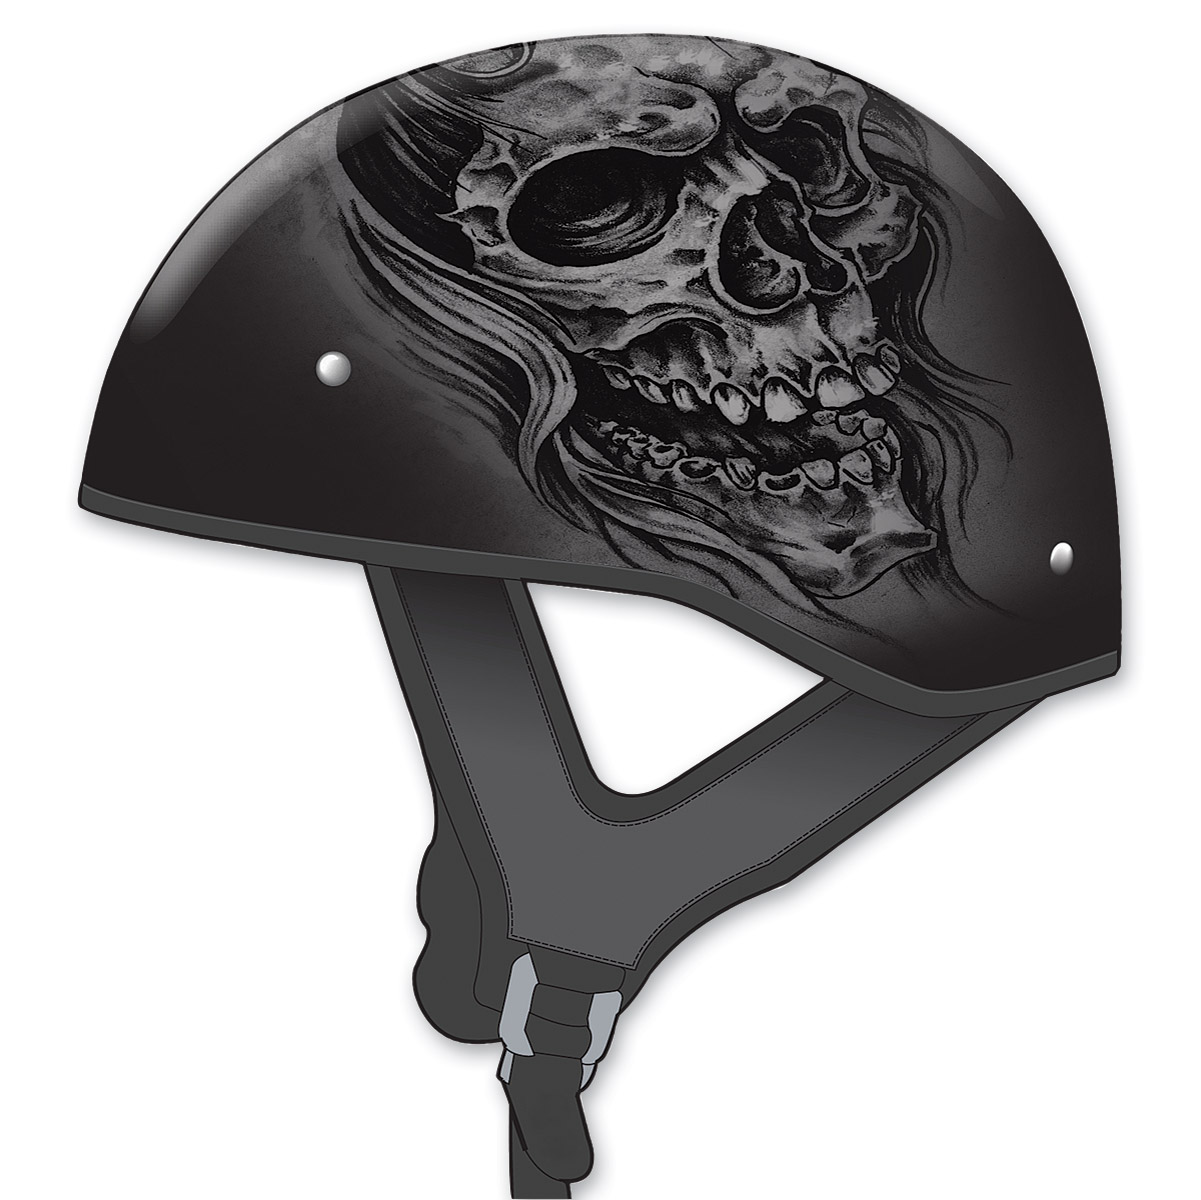with_helmet: (75, 26, 1128, 1190)
